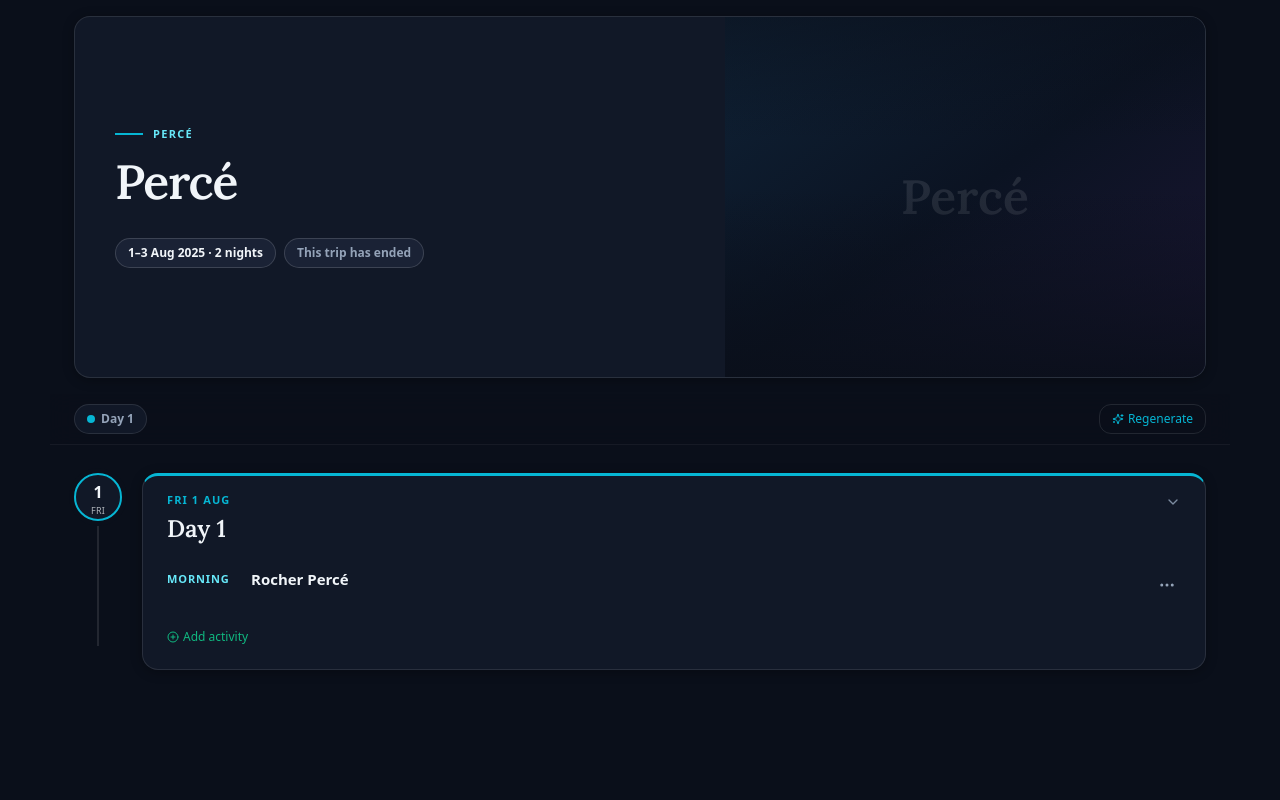
Scenario: regenerating without a key › offers the way back to the itinerary
Click the button "Regenerate": coordinates (1152, 419) [1099,404,1206,434]
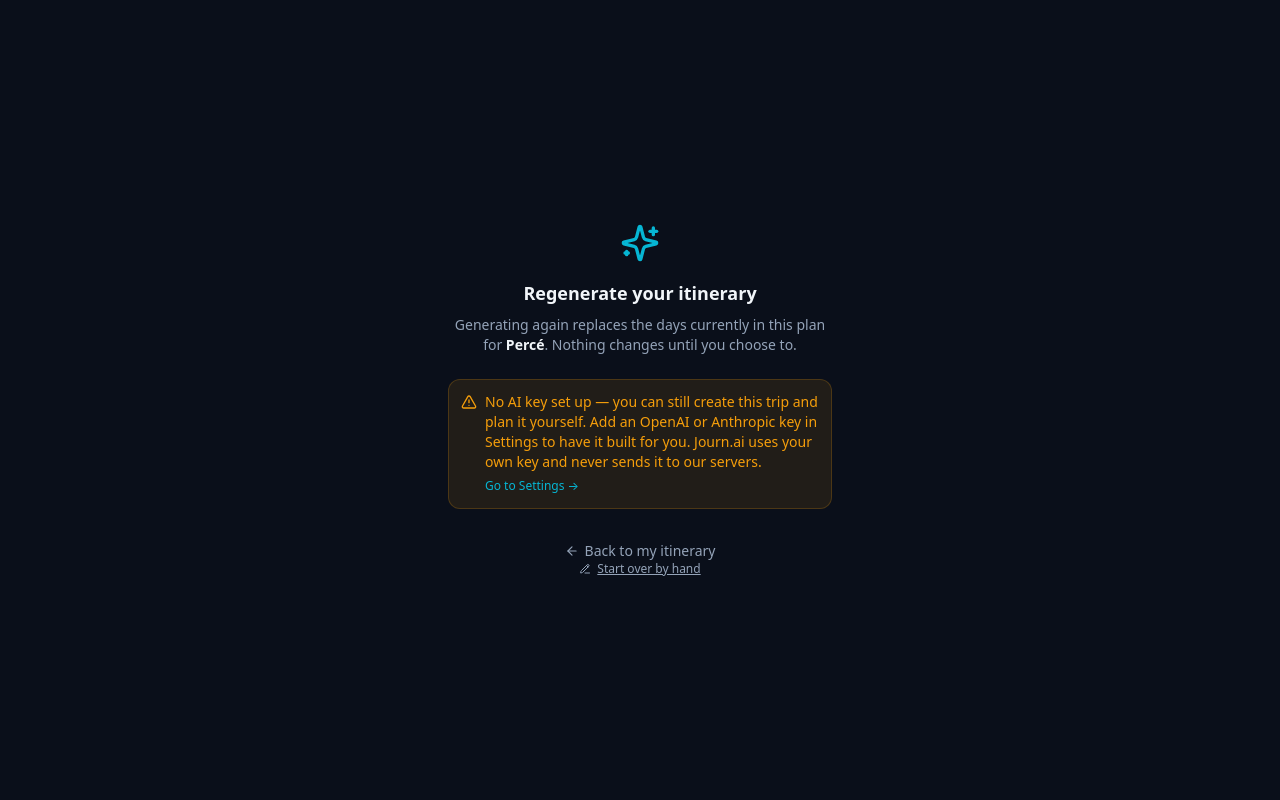
Now the button with test id "cancel-generate-btn" is shown, box [564,541,715,561]
